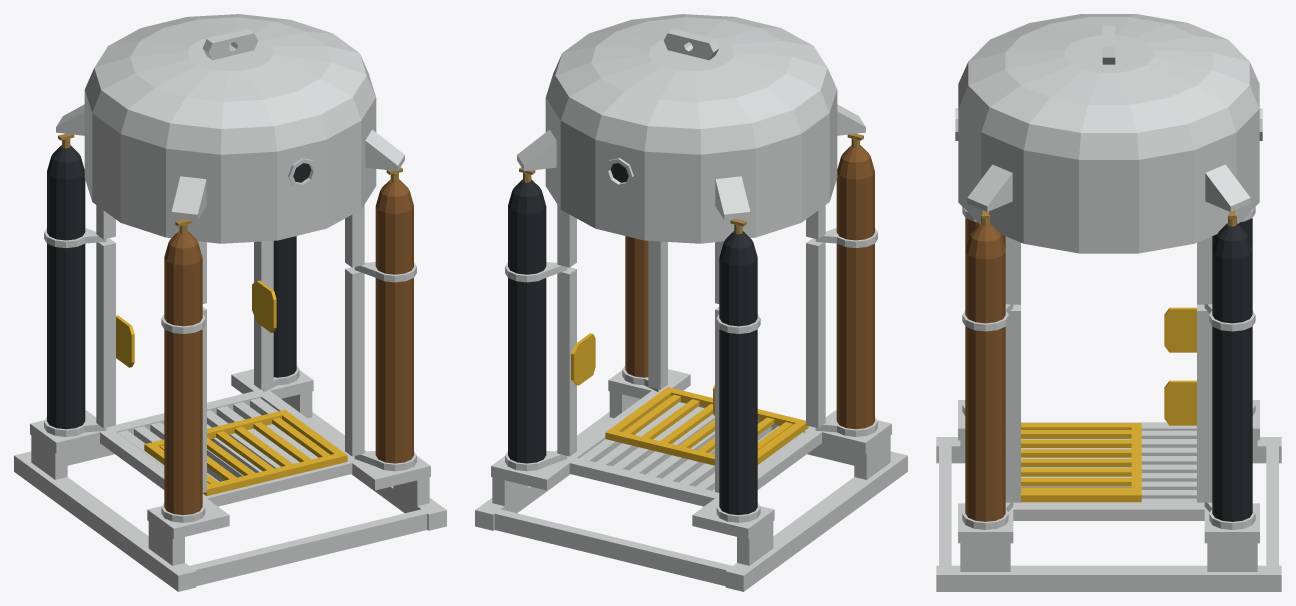
3 views of the same model, side by side, from view 1: azimuth 30°, elevation 25°; view 2: azimuth 150°, elevation 25°; view 3: azimuth 270°, elevation 25° (orthographic). The views are drawn at different scales.
Visible parts, largest first — view 1: Open_bottom_dome_with_two_apertures, LF_gas_cylinder, RF_gas_cylinder, LB_gas_cylinder, L_ground_skid, Front_lower_crossbar, LB_lower_upright, RF_lower_upright, RB_gas_cylinder, RB_lower_upright, R_deck_side, Front_deck_cross (+33 smaller); view 2: Open_bottom_dome_with_two_apertures, LB_gas_cylinder, RB_gas_cylinder, LF_gas_cylinder, L_ground_skid, Rear_lower_crossbar, LF_lower_upright, RB_lower_upright, RF_gas_cylinder, RF_lower_upright, Rear_deck_cross, R_deck_side (+32 smaller); view 3: Open_bottom_dome_with_two_apertures, RF_gas_cylinder, RB_gas_cylinder, R_ground_skid, R_deck_side, RF_lower_upright, RB_lower_upright, Front_lower_crossbar, Rear_lower_crossbar, RF_skid_riser, RB_skid_riser, RF_dome_mounted_overhead_guard (+32 smaller).
Part boxes in pixels (x1,y1,x2,y2): Open_bottom_dome_with_two_apertures: (84,14,376,243); LF_gas_cylinder: (164,231,202,515); RF_gas_cylinder: (375,179,413,463); LB_gas_cylinder: (47,145,85,429); L_ground_skid: (14,451,196,591); Front_lower_crossbar: (189,509,427,586); LB_lower_upright: (96,238,115,428); RF_lower_upright: (345,267,364,456); RB_gas_cylinder: (273,236,296,377); RB_lower_upright: (254,241,273,389); R_deck_side: (231,371,387,490); Front_deck_cross: (202,460,352,506); Open_bottom_dome_with_two_apertures: (545,14,837,243); LB_gas_cylinder: (719,231,757,515); RB_gas_cylinder: (508,179,546,463); LF_gas_cylinder: (836,145,874,429); L_ground_skid: (725,451,907,591); Rear_lower_crossbar: (494,509,732,586); LF_lower_upright: (806,238,825,428); RB_lower_upright: (557,267,576,456); RF_gas_cylinder: (625,236,648,377); RF_lower_upright: (648,241,667,389); Rear_deck_cross: (569,458,719,506); R_deck_side: (534,371,690,490); Open_bottom_dome_with_two_apertures: (958,14,1259,253); RF_gas_cylinder: (965,223,1005,521); RB_gas_cylinder: (1212,223,1252,521); R_ground_skid: (936,565,1281,591); R_deck_side: (958,503,1259,520); RF_lower_upright: (1005,304,1020,502); RB_lower_upright: (1197,304,1212,502); Front_lower_crossbar: (939,446,951,565); Rear_lower_crossbar: (1266,446,1278,565); RF_skid_riser: (960,543,1010,571); RB_skid_riser: (1207,543,1257,571); RF_dome_mounted_overhead_guard: (967,164,1012,211).
Bounding box in the file's own units: 1.3 × 2.13 × 1.37.
